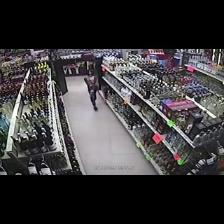person: (84, 70, 97, 110)
